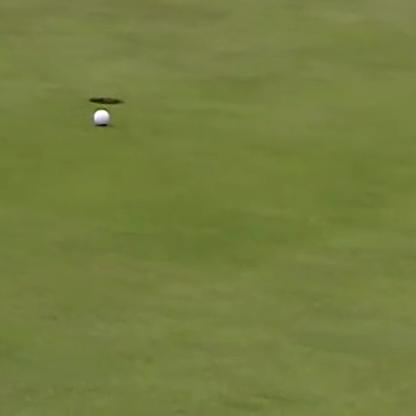golfball: (91, 107, 109, 123)
